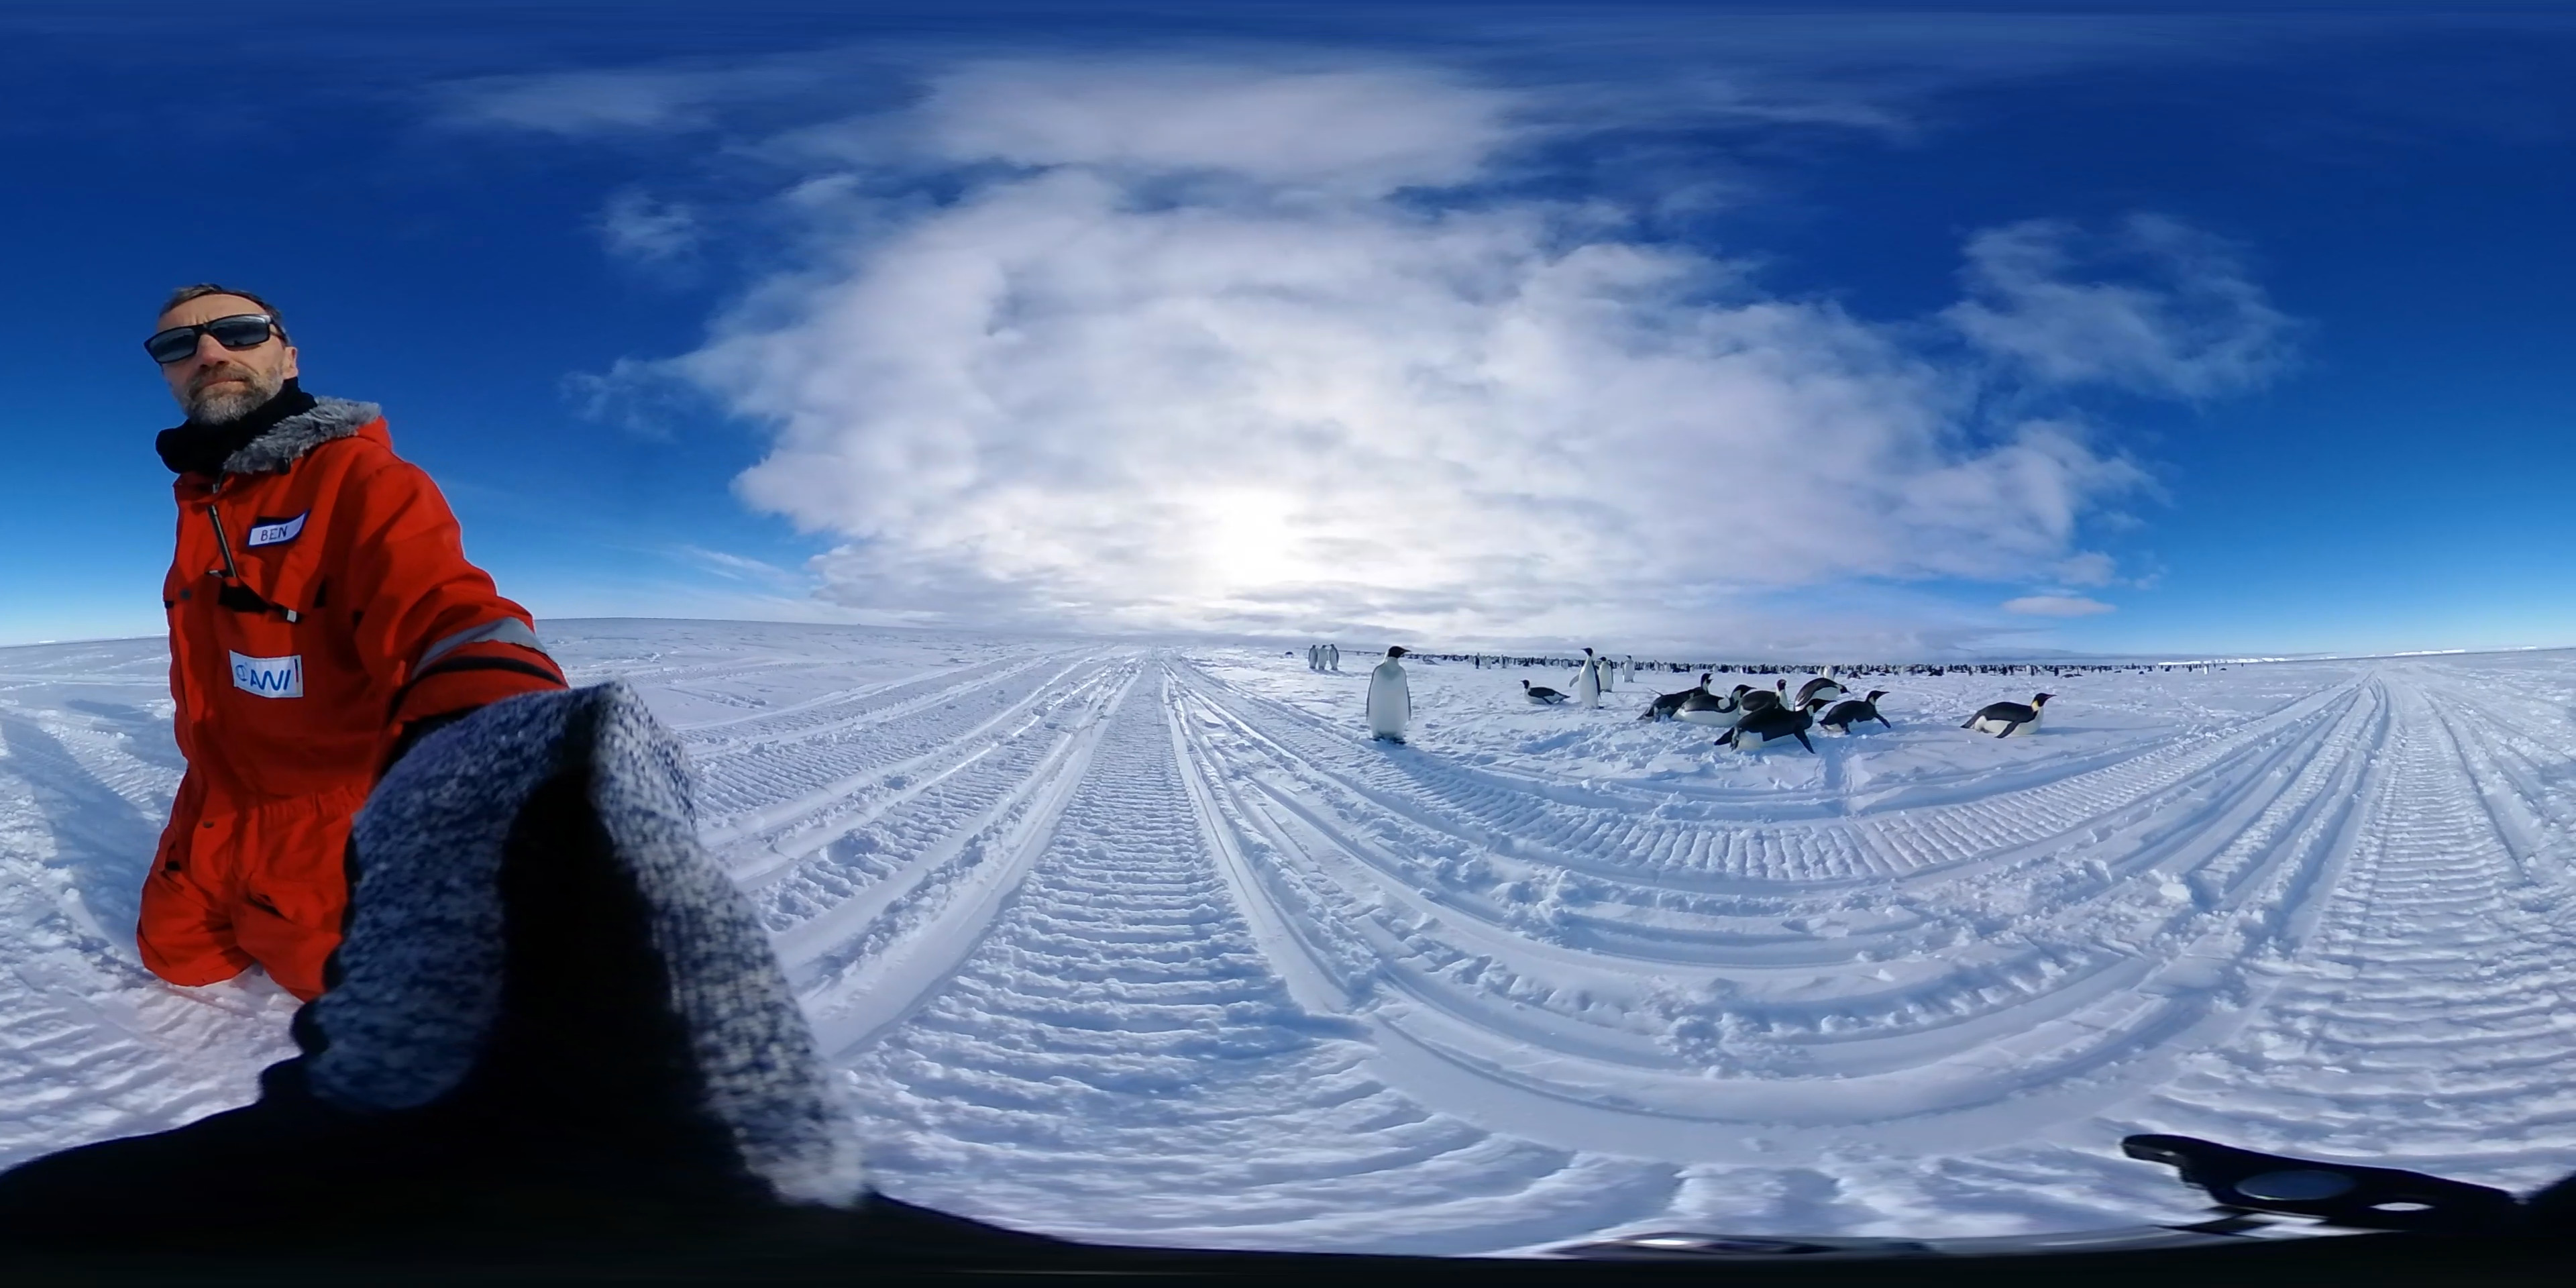adult_standing_penguin: (1365, 641, 1418, 749), (1569, 646, 1607, 713), (1595, 652, 1618, 697), (1313, 641, 1329, 675), (1623, 654, 1641, 683), (1306, 642, 1318, 674), (1329, 642, 1341, 667)
adult_toboggan_penguin: (1717, 698, 1833, 759), (1958, 690, 2055, 739), (1669, 682, 1756, 728), (1640, 670, 1712, 724), (1815, 690, 1893, 736), (1730, 677, 1787, 715), (1791, 677, 1850, 713), (1518, 678, 1571, 710)
researcher: (126, 278, 586, 1028)
